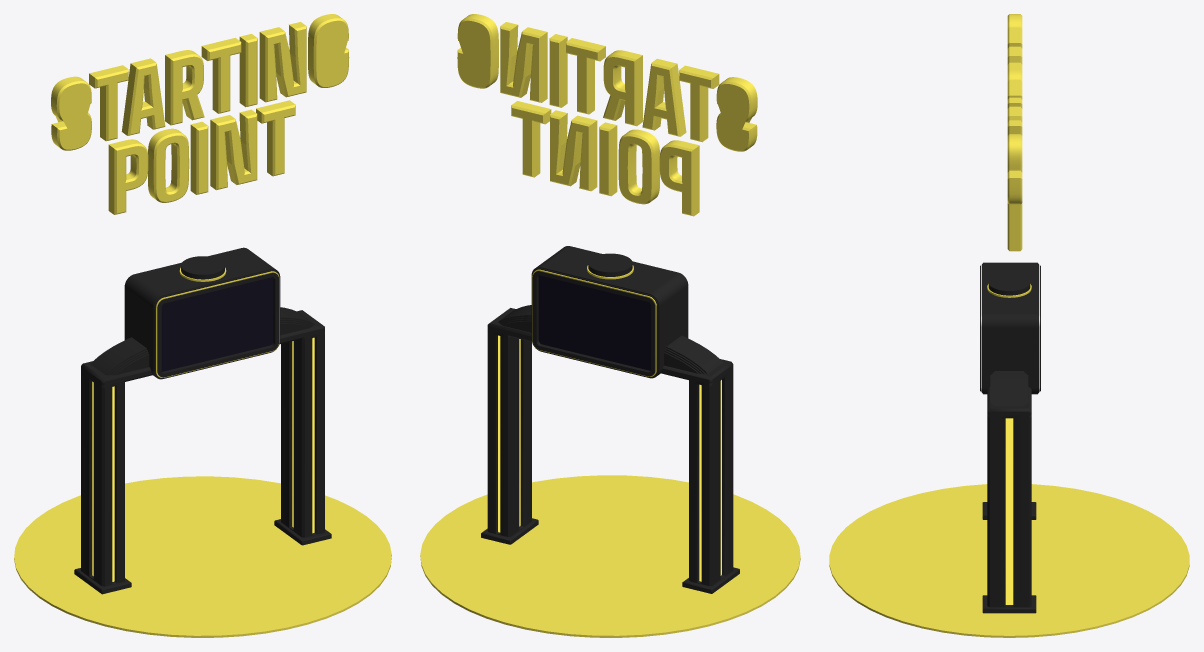
The model's file is Starting_point_v1.fbx.
3 views of the same model, side by side, from view 1: azimuth 30°, elevation 25°; view 2: azimuth 150°, elevation 25°; view 3: azimuth 270°, elevation 25° (orthographic). The views are drawn at different scales.
Visible parts, largest first — view 1: Cylinder_1, Starting, tv, Point, pillar_2, pillar_1, Extrude_2, arch, Cylinder_2, Extrude_1; view 2: Cylinder_1, Starting, tv, Point, pillar_2, pillar_1, Extrude_2, arch, Cylinder_2, Extrude_1; view 3: Cylinder_1, pillar_1, tv, Starting, Extrude_1, Cylinder_2, Point, arch, Cube_5.
Part boxes in pixels (x1,y1,x2,y2): Cylinder_1: (14,476,391,637); Starting: (51,14,349,150); tv: (124,247,280,379); Point: (108,100,295,214); pillar_2: (81,370,124,586); pillar_1: (281,331,324,537); Extrude_2: (91,337,149,375); arch: (81,310,324,385); Cylinder_2: (181,256,224,279); Extrude_1: (280,307,314,335); Cylinder_1: (420,475,800,637); Starting: (457,14,757,151); tv: (531,246,688,378); Point: (511,101,699,216); pillar_2: (689,369,733,586); pillar_1: (487,329,531,536); Extrude_2: (664,335,722,373); arch: (487,308,733,383); Cylinder_2: (588,253,632,276); Extrude_1: (498,305,531,332); Cylinder_1: (829,484,1189,637); pillar_1: (987,414,1031,607); tv: (980,262,1040,394); Starting: (1007,14,1022,204); Extrude_1: (990,371,1028,406); Cylinder_2: (988,273,1030,295); Point: (1007,203,1022,251); arch: (987,387,1031,415); Cube_5: (982,595,1036,613).
Size of the model in its own units: 491 by 728 by 490.
